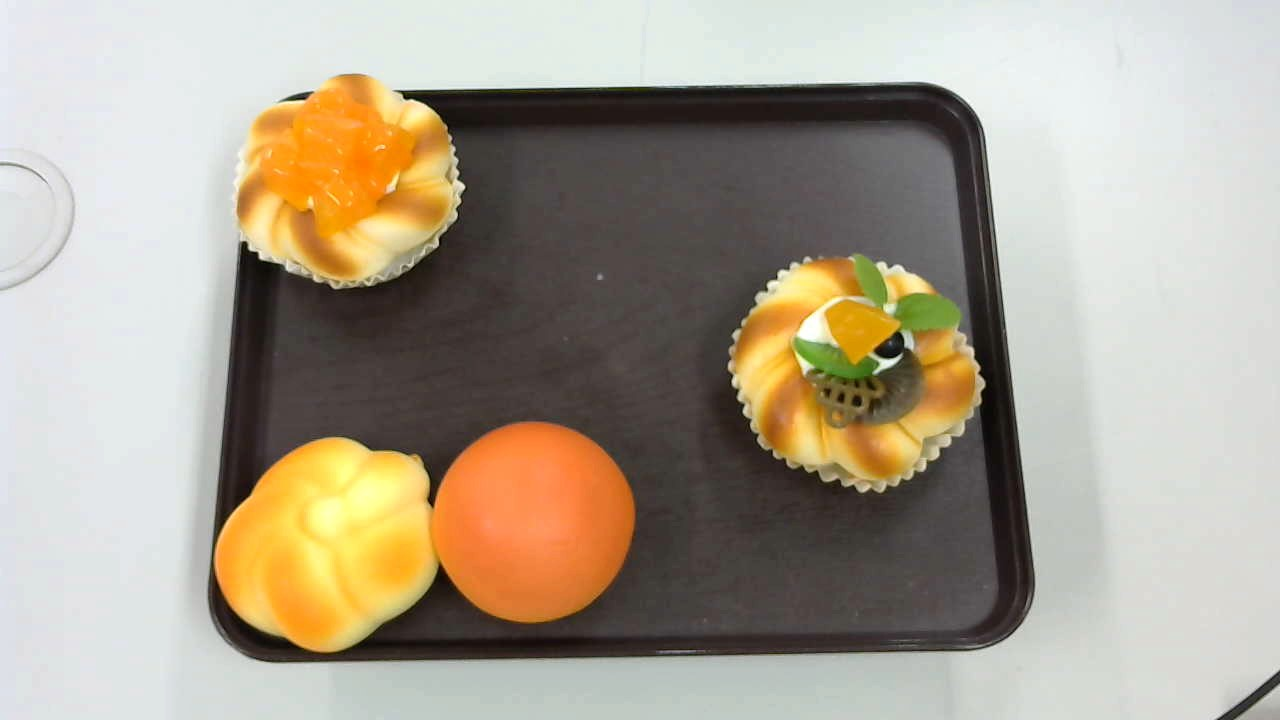bun: (432, 421, 636, 625)
fruit tart: (728, 253, 985, 496)
mango tart: (232, 73, 466, 292)
twist bread: (214, 435, 438, 653)
